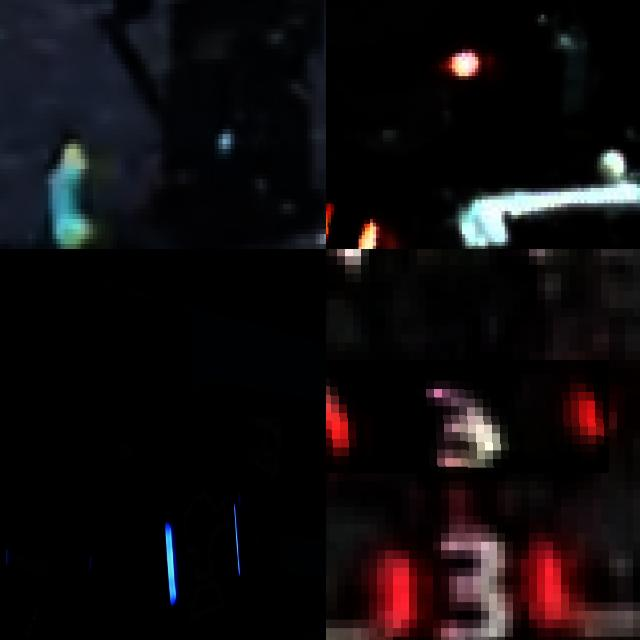Bs: (156, 478, 245, 624)
R3: (326, 360, 609, 472), (377, 515, 569, 640)
Rs: (326, 192, 369, 249)
